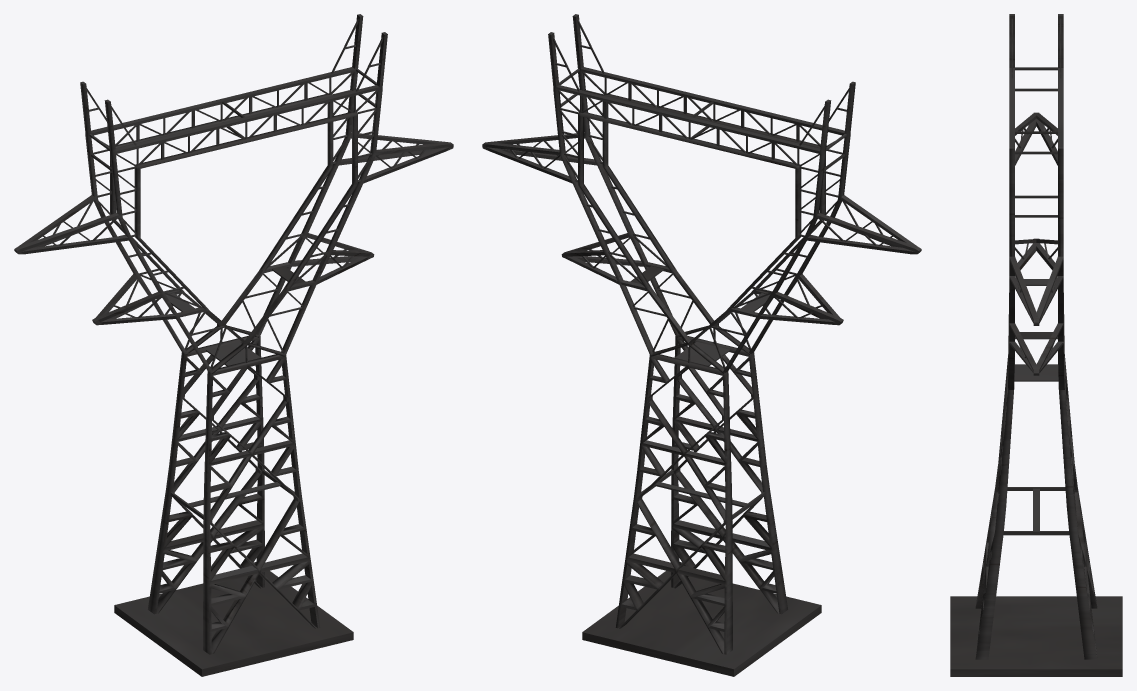
The model's file is prop-transmission-tower.fbx.
3 views of the same model, side by side, from view 1: azimuth 30°, elevation 25°; view 2: azimuth 150°, elevation 25°; view 3: azimuth 270°, elevation 25° (orthographic).
Parts seen in each view (by area): view 1: Cube.212; view 2: Cube.212; view 3: Cube.212.
Boxes of the visible parts, x1,y1,x2,y2 form: Cube.212: (14,14,453,676); Cube.212: (482,14,921,676); Cube.212: (950,14,1122,676).
Size of the model in its own units: 1509 by 1876 by 525.
